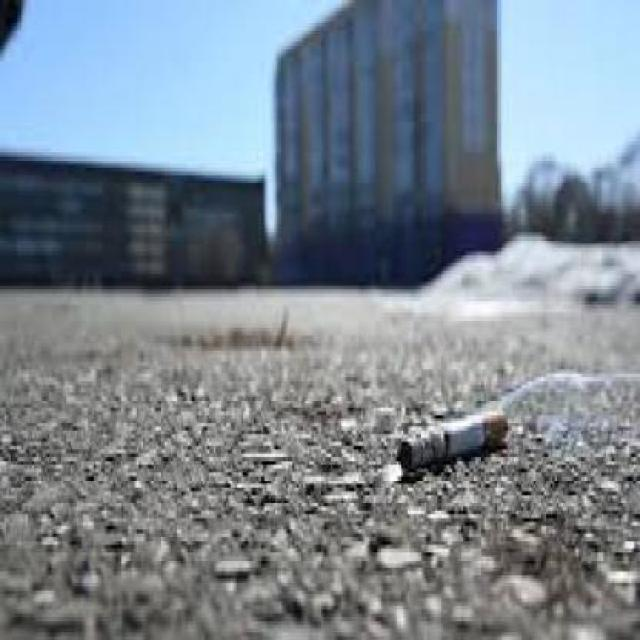cigarette: (398, 404, 517, 491)
